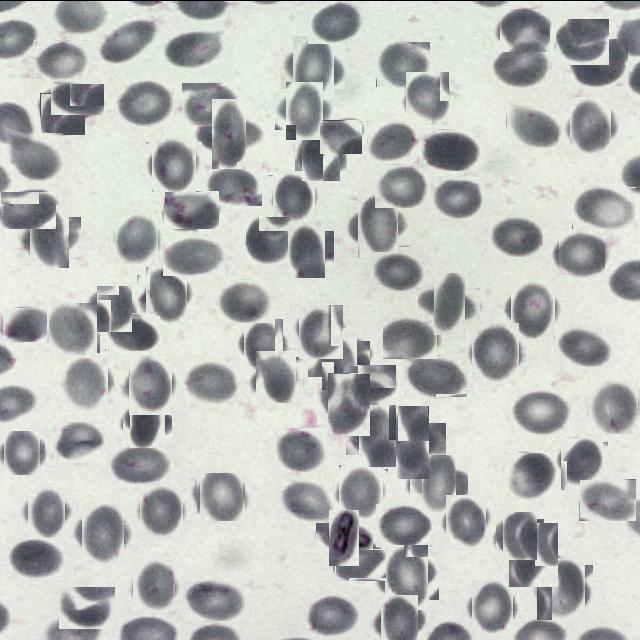red blood cell: (504, 526, 562, 582), (382, 414, 438, 470), (534, 560, 589, 616), (565, 38, 628, 86), (379, 550, 434, 604), (510, 389, 572, 435), (287, 41, 340, 94), (323, 377, 376, 430), (114, 79, 174, 125), (352, 199, 404, 252), (470, 325, 522, 378), (203, 107, 256, 159), (77, 508, 129, 560), (508, 282, 560, 334), (24, 210, 76, 262), (124, 358, 176, 410), (572, 186, 636, 228), (7, 132, 63, 180), (494, 40, 552, 86), (98, 17, 156, 63), (588, 381, 639, 433), (405, 354, 467, 396), (108, 443, 171, 484), (181, 81, 238, 126), (48, 303, 99, 353), (183, 579, 245, 620), (420, 128, 480, 170), (162, 28, 225, 68), (375, 502, 432, 546), (150, 138, 200, 188), (141, 270, 191, 320), (296, 306, 346, 356), (352, 410, 402, 460), (376, 40, 430, 86), (566, 100, 615, 150), (314, 333, 364, 382), (503, 452, 556, 498), (556, 18, 609, 64), (6, 537, 64, 579), (163, 236, 225, 275), (336, 466, 386, 514), (205, 163, 262, 205), (579, 478, 636, 520), (374, 163, 428, 207), (430, 175, 485, 218), (488, 214, 544, 256), (59, 586, 115, 628), (218, 278, 271, 322), (308, 0, 362, 43), (184, 361, 239, 403), (282, 479, 337, 521), (558, 438, 606, 486), (468, 583, 516, 631), (137, 486, 185, 534), (404, 74, 452, 122), (280, 86, 328, 134), (112, 213, 160, 261), (556, 325, 612, 366), (305, 593, 359, 635), (383, 316, 437, 358), (64, 359, 111, 407), (253, 352, 300, 400), (282, 225, 330, 272), (276, 427, 327, 471), (442, 497, 489, 544), (270, 172, 317, 219), (245, 215, 292, 262), (342, 364, 397, 404), (54, 422, 106, 464), (131, 561, 177, 608), (426, 280, 473, 326), (370, 250, 424, 290), (500, 8, 550, 51), (34, 39, 89, 78), (0, 190, 56, 228), (506, 106, 559, 146), (198, 473, 244, 519), (240, 322, 286, 368), (416, 459, 462, 505), (105, 312, 160, 350), (164, 190, 219, 228), (298, 132, 344, 177), (367, 120, 418, 160), (23, 490, 68, 534), (376, 598, 422, 640), (558, 233, 605, 274), (40, 92, 85, 134), (126, 402, 168, 444), (499, 514, 541, 556), (50, 82, 104, 114), (335, 548, 386, 580), (94, 288, 134, 328), (2, 432, 42, 472), (2, 306, 47, 341), (319, 119, 362, 153)
ring: (322, 515, 367, 559)
